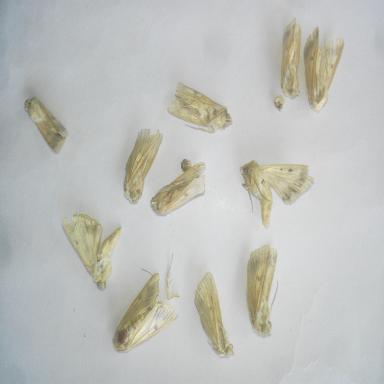abw: (110, 268, 182, 356), (237, 156, 318, 233), (59, 209, 128, 296), (298, 23, 348, 117), (148, 154, 213, 224), (164, 76, 236, 138), (192, 268, 239, 362), (120, 119, 168, 208), (243, 238, 282, 342), (21, 92, 72, 158), (272, 13, 304, 106)
